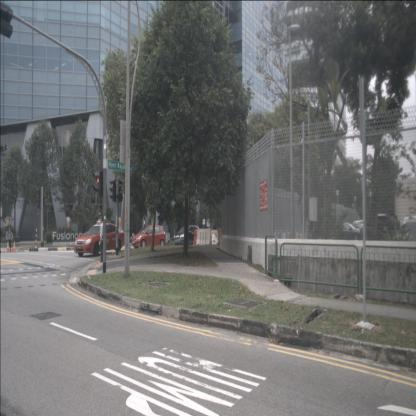human-pedestrian-adult: (99, 216, 104, 262), (5, 226, 13, 253)
movable_object-barrier: (196, 227, 212, 247), (193, 228, 205, 245), (209, 228, 219, 243)
movable_object-trafficcone: (6, 241, 10, 253), (12, 242, 16, 252)
vehicle-car: (74, 223, 125, 256), (131, 224, 166, 249), (330, 222, 361, 242), (174, 225, 201, 245), (398, 215, 416, 245)
